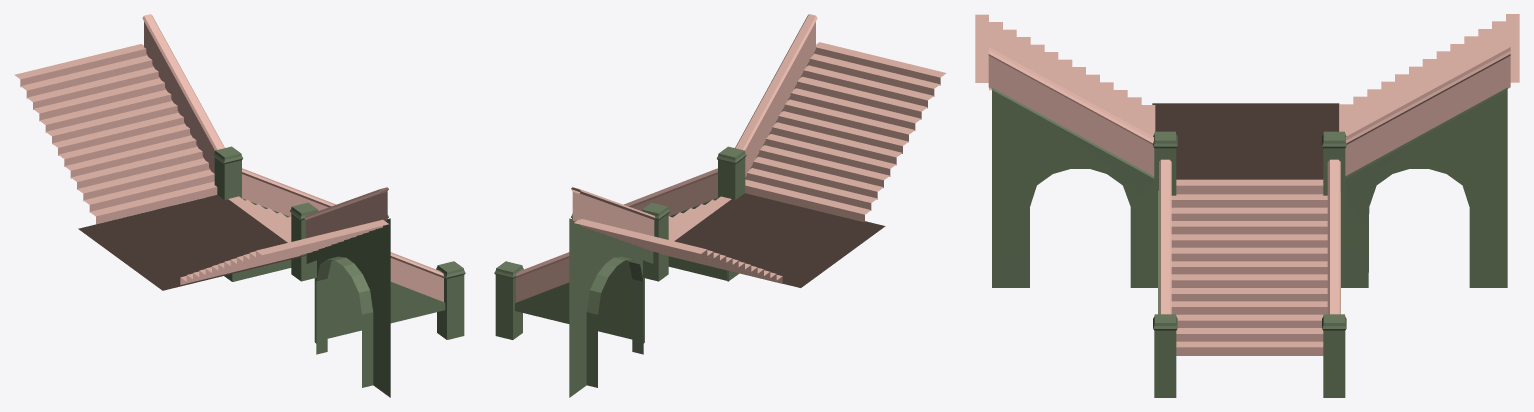
File: Museum_Big_Stair_02.fbx
3 renders of one model, left to right at view 1: azimuth 30°, elevation 25°; view 2: azimuth 150°, elevation 25°; view 3: azimuth 270°, elevation 25°, orthographic. The views are drawn at different scales.
Parts seen in each view (by area): view 1: Archi_Sol.002; view 2: Archi_Sol.002; view 3: Archi_Sol.002.
Part boxes in pixels (x1,y1,x2,y2): Archi_Sol.002: (14,14,465,397); Archi_Sol.002: (494,14,946,397); Archi_Sol.002: (975,14,1519,397).
Bounding box in the file's own units: 1222 × 926 × 1721.
